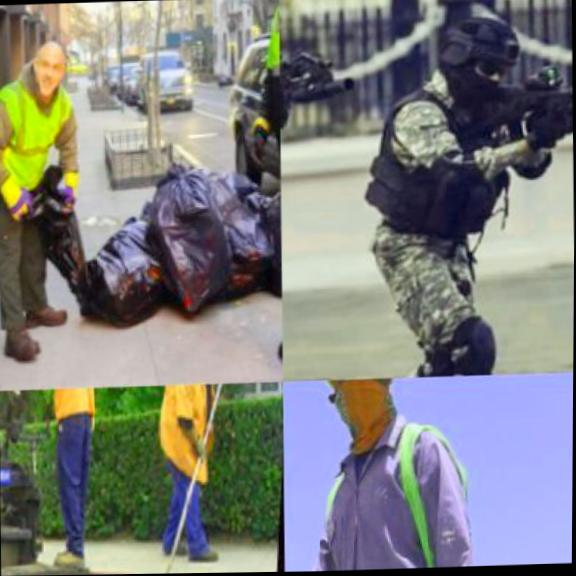safety_vest: (305, 407, 504, 571), (352, 89, 523, 259), (0, 91, 87, 213), (151, 383, 231, 481), (43, 387, 101, 427)
